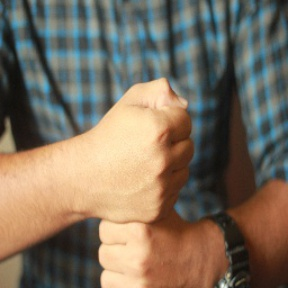G: (85, 74, 198, 288)
